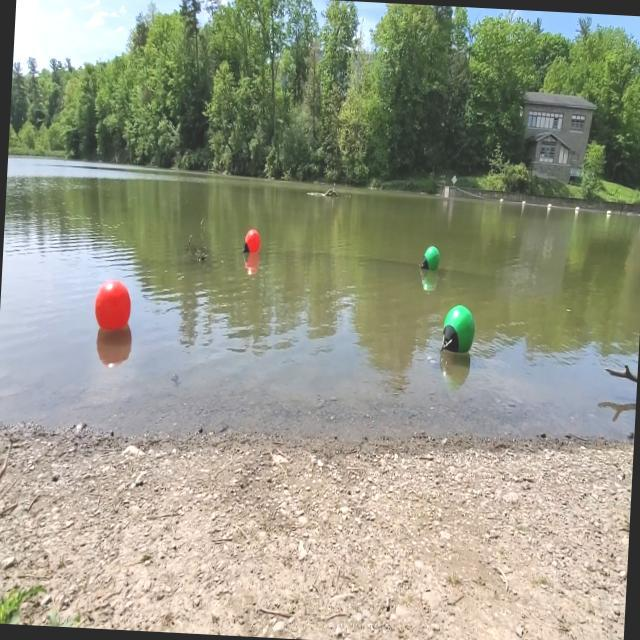buoy: (94, 276, 134, 336), (439, 302, 478, 358), (420, 244, 440, 274), (242, 228, 262, 258)
